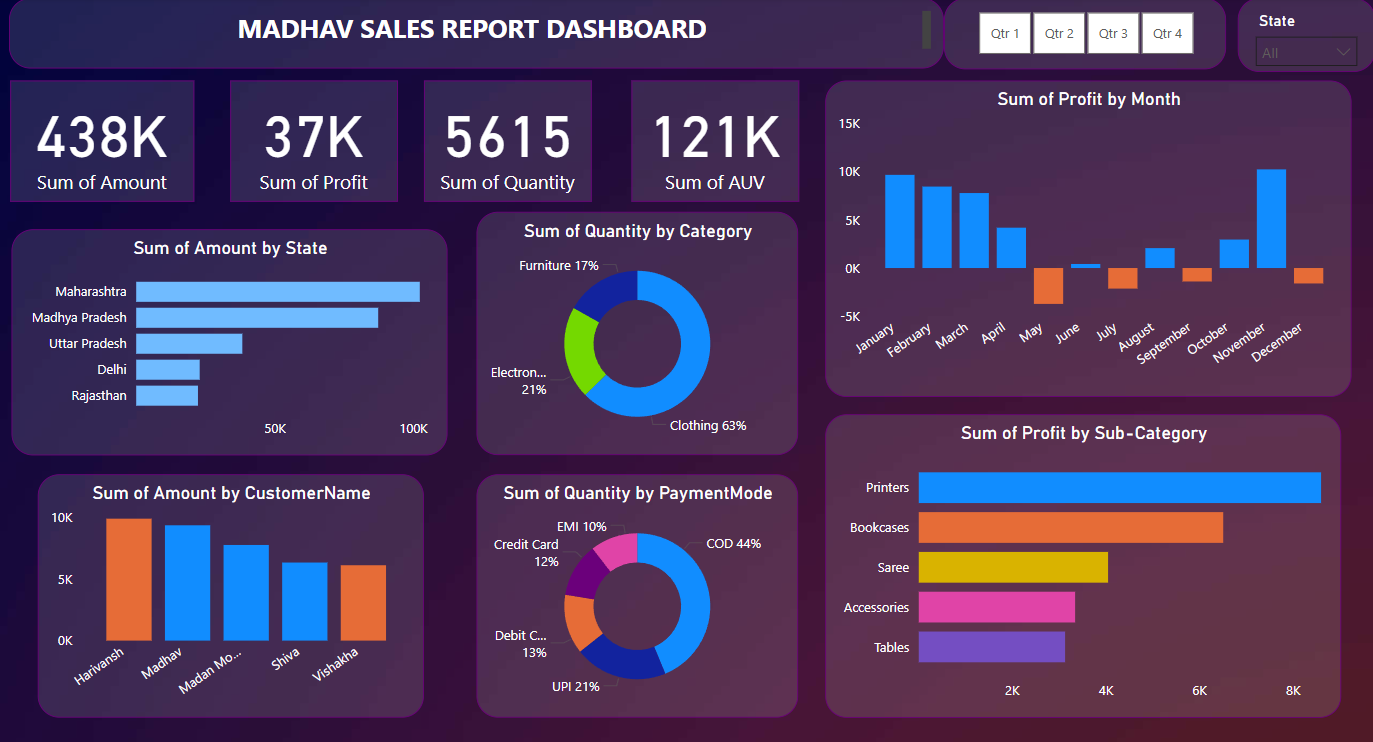

Layout of this report page (visuals, bound fields, positions):
{"tool":"powerbi","page":{"name":"Page 1","canvas":[1280,720],"ordinal":0},"visuals":[{"type":"textbox","box":[9.6,0,870,65.9],"z":0},{"type":"clusteredColumnChart","fields":{"Category":["Orders.Order Date.Variation.Date Hierarchy.Month"],"Y":["Details.Profit"]},"box":[768.6,76.7,489.5,294.2],"z":1000},{"type":"barChart","fields":{"Y":["Details.Profit"],"Category":["Details.Sub-Category"]},"box":[768.6,387.2,480.2,282.6],"z":2000},{"type":"donutChart","fields":{"Category":["Details.Category"],"Y":["Details.Quantity"]},"box":[444.6,199,299.1,226.4],"z":3000},{"type":"donutChart","fields":{"Y":["Details.Quantity"],"Category":["Details.PaymentMode"]},"box":[444.6,443.2,299.1,226.4],"z":4000},{"type":"card","fields":{"Values":["Details.Amount"]},"box":[10.5,76.7,170.9,112.8],"z":4001},{"type":"card","fields":{"Values":["Details.AUV"]},"box":[588.4,76.7,155.8,112.8],"z":4002},{"type":"card","fields":{"Values":["Details.Quantity"]},"box":[395.3,76.7,155.8,112.8],"z":4003},{"type":"card","fields":{"Values":["Details.Profit"]},"box":[215.1,76.7,155.8,112.8],"z":4004},{"type":"barChart","fields":{"Y":["Details.Amount"],"Category":["Orders.State"]},"box":[11.6,215.1,405.8,210.5],"z":4005},{"type":"clusteredColumnChart","fields":{"Y":["Details.Amount"],"Category":["Orders.CustomerName"]},"box":[36,443,359.3,226.7],"z":4006},{"type":"slicer","fields":{"Values":["Orders.Order Date.Variation.Date Hierarchy.Quarter"]},"box":[879.1,0,262.8,66.3],"z":4007},{"type":"slicer","fields":{"Values":["Orders.State"]},"box":[1152.3,0,127.9,68.6],"z":4008}]}

Visuals, with their boxes on the page's 1280x720 design canvas (x1, y1, x2, y2). These are canvas units, not pixel positions in the 1373x742 screenshot, which may show the page scaled, cropped or inside an application window:
textbox: [left=10, top=0, right=880, bottom=66]
clusteredColumnChart - Orders.Order Date.Variation.Date Hierarchy.Month x Details.Profit: [left=769, top=77, right=1258, bottom=371]
barChart - Details.Profit x Details.Sub-Category: [left=769, top=387, right=1249, bottom=670]
donutChart - Details.Category x Details.Quantity: [left=445, top=199, right=744, bottom=425]
donutChart - Details.Quantity x Details.PaymentMode: [left=445, top=443, right=744, bottom=670]
card - Details.Amount: [left=10, top=77, right=181, bottom=190]
card - Details.AUV: [left=588, top=77, right=744, bottom=190]
card - Details.Quantity: [left=395, top=77, right=551, bottom=190]
card - Details.Profit: [left=215, top=77, right=371, bottom=190]
barChart - Details.Amount x Orders.State: [left=12, top=215, right=417, bottom=426]
clusteredColumnChart - Details.Amount x Orders.CustomerName: [left=36, top=443, right=395, bottom=670]
slicer - Orders.Order Date.Variation.Date Hierarchy.Quarter: [left=879, top=0, right=1142, bottom=66]
slicer - Orders.State: [left=1152, top=0, right=1280, bottom=69]
